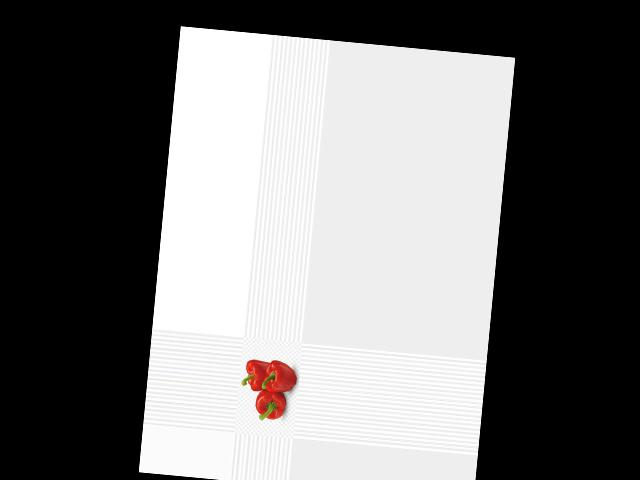bell_pepper: (250, 385, 290, 424)
